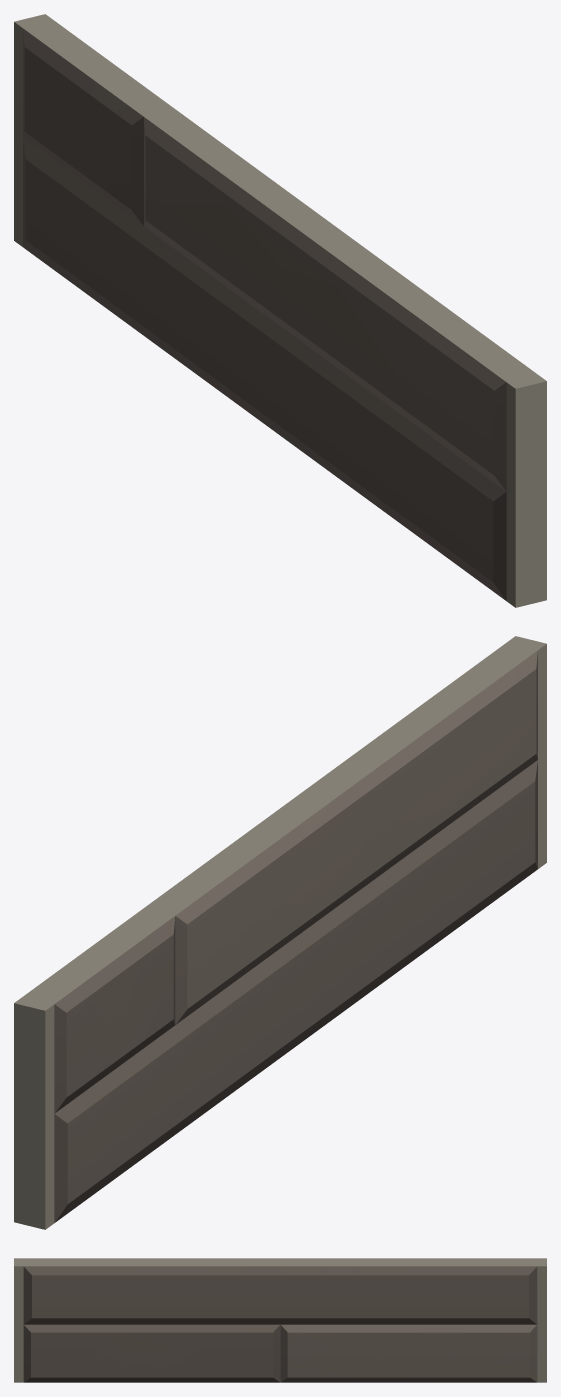
File: TSP_House_Wall_Rail_01B.fbx
The picture shows the model from 3 angles, top to bottom: view 1: azimuth 30°, elevation 25°; view 2: azimuth 150°, elevation 25°; view 3: azimuth 270°, elevation 25°; orthographic projection. The views are drawn at different scales.
Parts seen in each view (by area): view 1: TSP_House_Wall_Rail_01B; view 2: TSP_House_Wall_Rail_01B; view 3: TSP_House_Wall_Rail_01B.
Boxes of the visible parts, x1,y1,x2,y2 form: TSP_House_Wall_Rail_01B: (14,14,546,607); TSP_House_Wall_Rail_01B: (14,636,546,1229); TSP_House_Wall_Rail_01B: (14,1258,546,1382).
Bounding box in the file's own units: 0.2 × 1 × 4.15.
